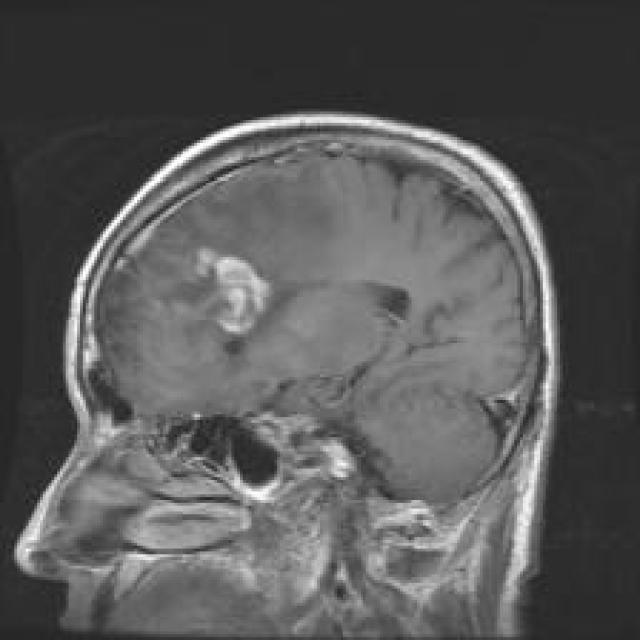glioma_tumor: (160, 233, 312, 365)
